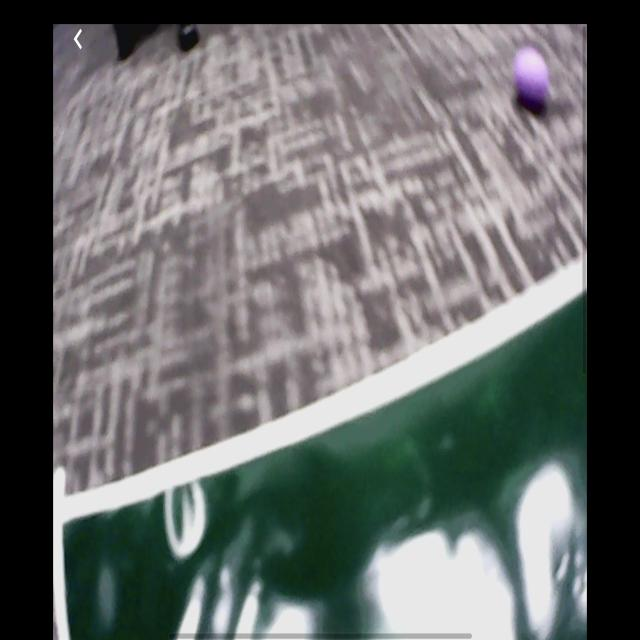ball: (514, 48, 550, 106)
